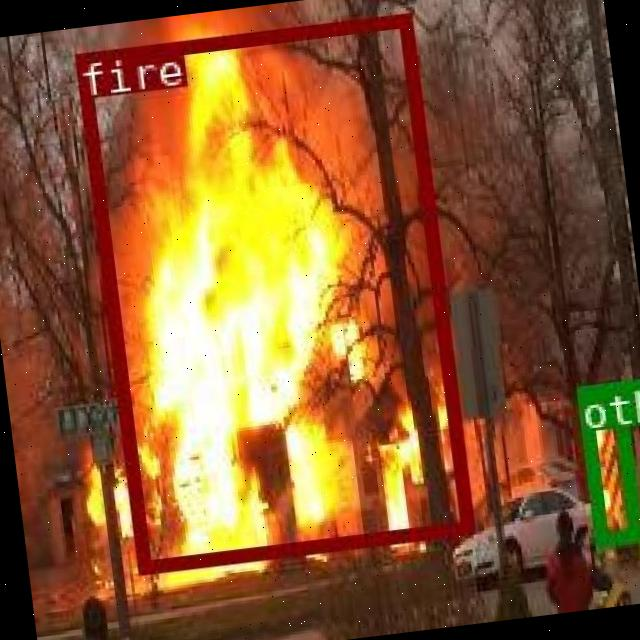fire: (72, 12, 470, 570)
